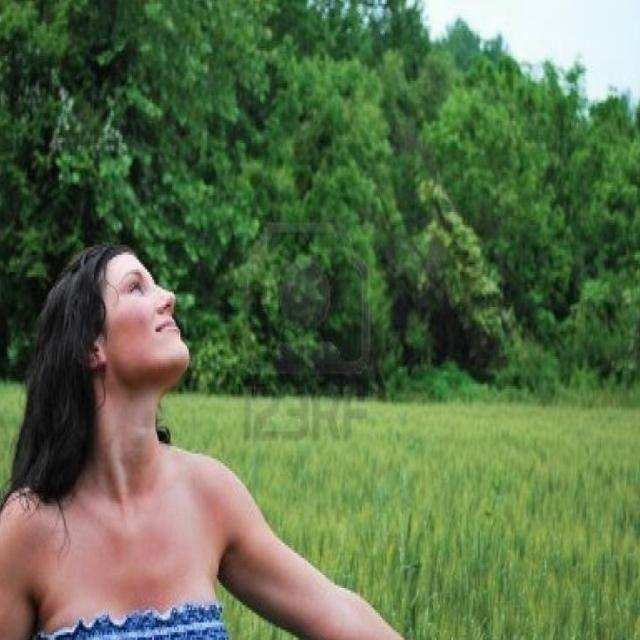piel: (0, 253, 416, 640)
